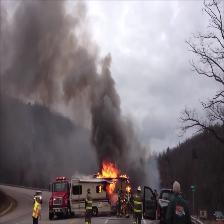fire: (93, 161, 130, 202)
